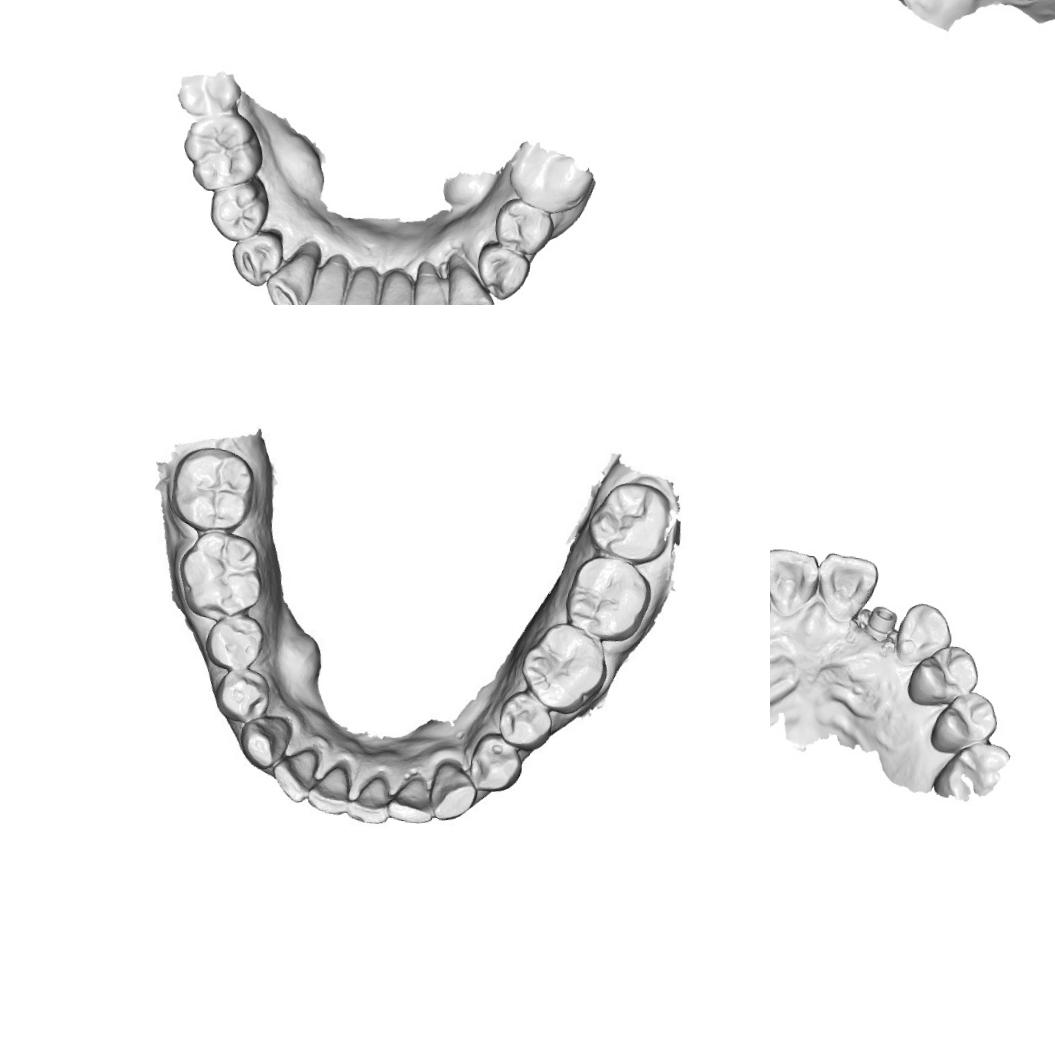canine: (894, 598, 955, 665), (236, 713, 298, 768), (264, 245, 320, 305), (429, 758, 478, 822), (443, 266, 495, 305)
implant: (865, 603, 898, 638)
incisor: (811, 549, 883, 631), (770, 545, 820, 630), (386, 764, 439, 825), (344, 769, 396, 829), (270, 744, 321, 802), (304, 760, 351, 816), (296, 265, 348, 305), (336, 272, 379, 305), (406, 279, 456, 305), (371, 280, 416, 305)
molar: (175, 526, 277, 618), (518, 620, 608, 711), (178, 108, 264, 197), (169, 444, 258, 528), (564, 555, 654, 637), (584, 475, 669, 558), (930, 736, 1018, 804)
premolar: (903, 639, 983, 714), (927, 687, 1001, 757), (206, 177, 270, 243), (490, 196, 555, 257), (471, 239, 531, 303), (227, 225, 286, 289), (466, 732, 522, 795), (212, 665, 272, 720), (206, 613, 262, 669), (497, 694, 552, 748)
